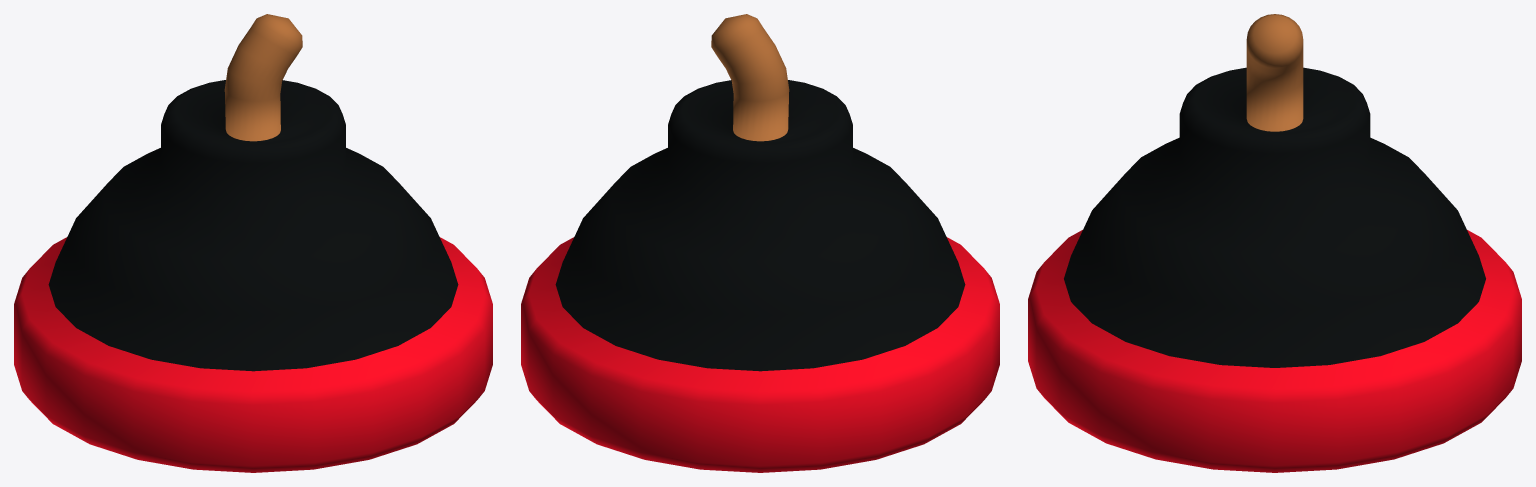
File: bomb.glb
3 views of the same model, side by side, from view 1: azimuth 30°, elevation 25°; view 2: azimuth 150°, elevation 25°; view 3: azimuth 270°, elevation 25° (orthographic). The views are drawn at different scales.
Parts seen in each view (by area): view 1: bomb; view 2: bomb; view 3: bomb.
Boxes of the visible parts, x1=… form: bomb: x1=14, y1=14, x2=492, y2=472; bomb: x1=521, y1=14, x2=999, y2=472; bomb: x1=1028, y1=14, x2=1521, y2=472.
Size of the model in its own units: 1.13 by 0.9443 by 1.13.
